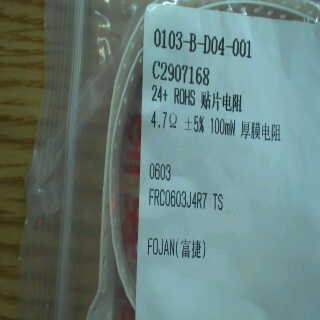4.7R: (148, 110, 185, 131)
